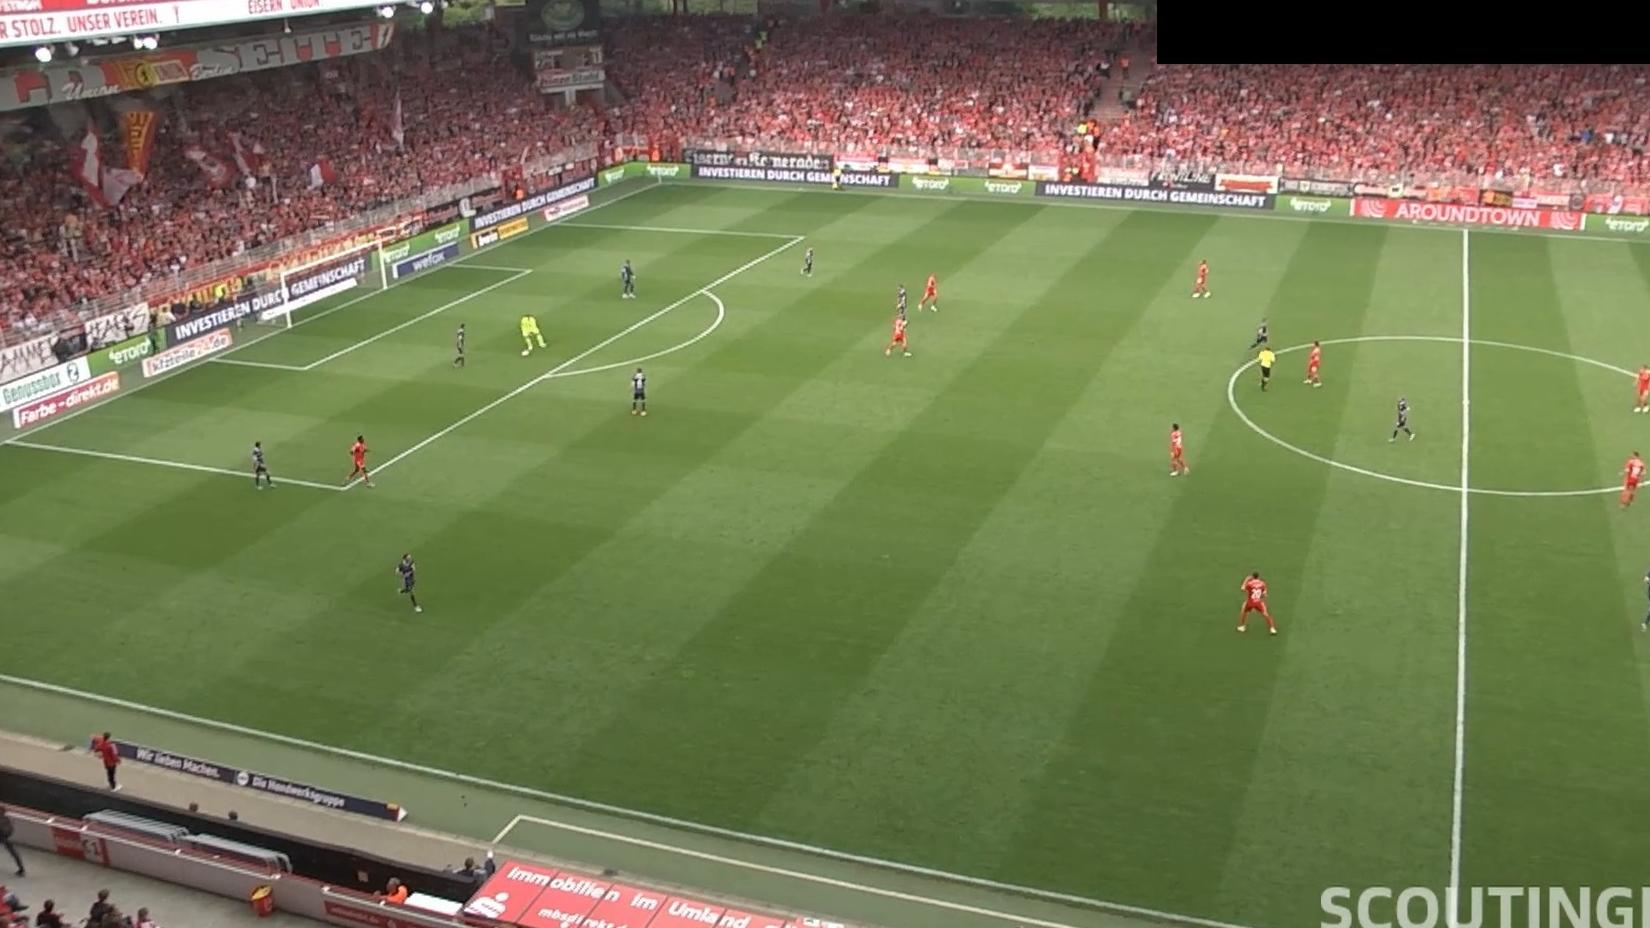ball: (521, 348, 530, 358)
